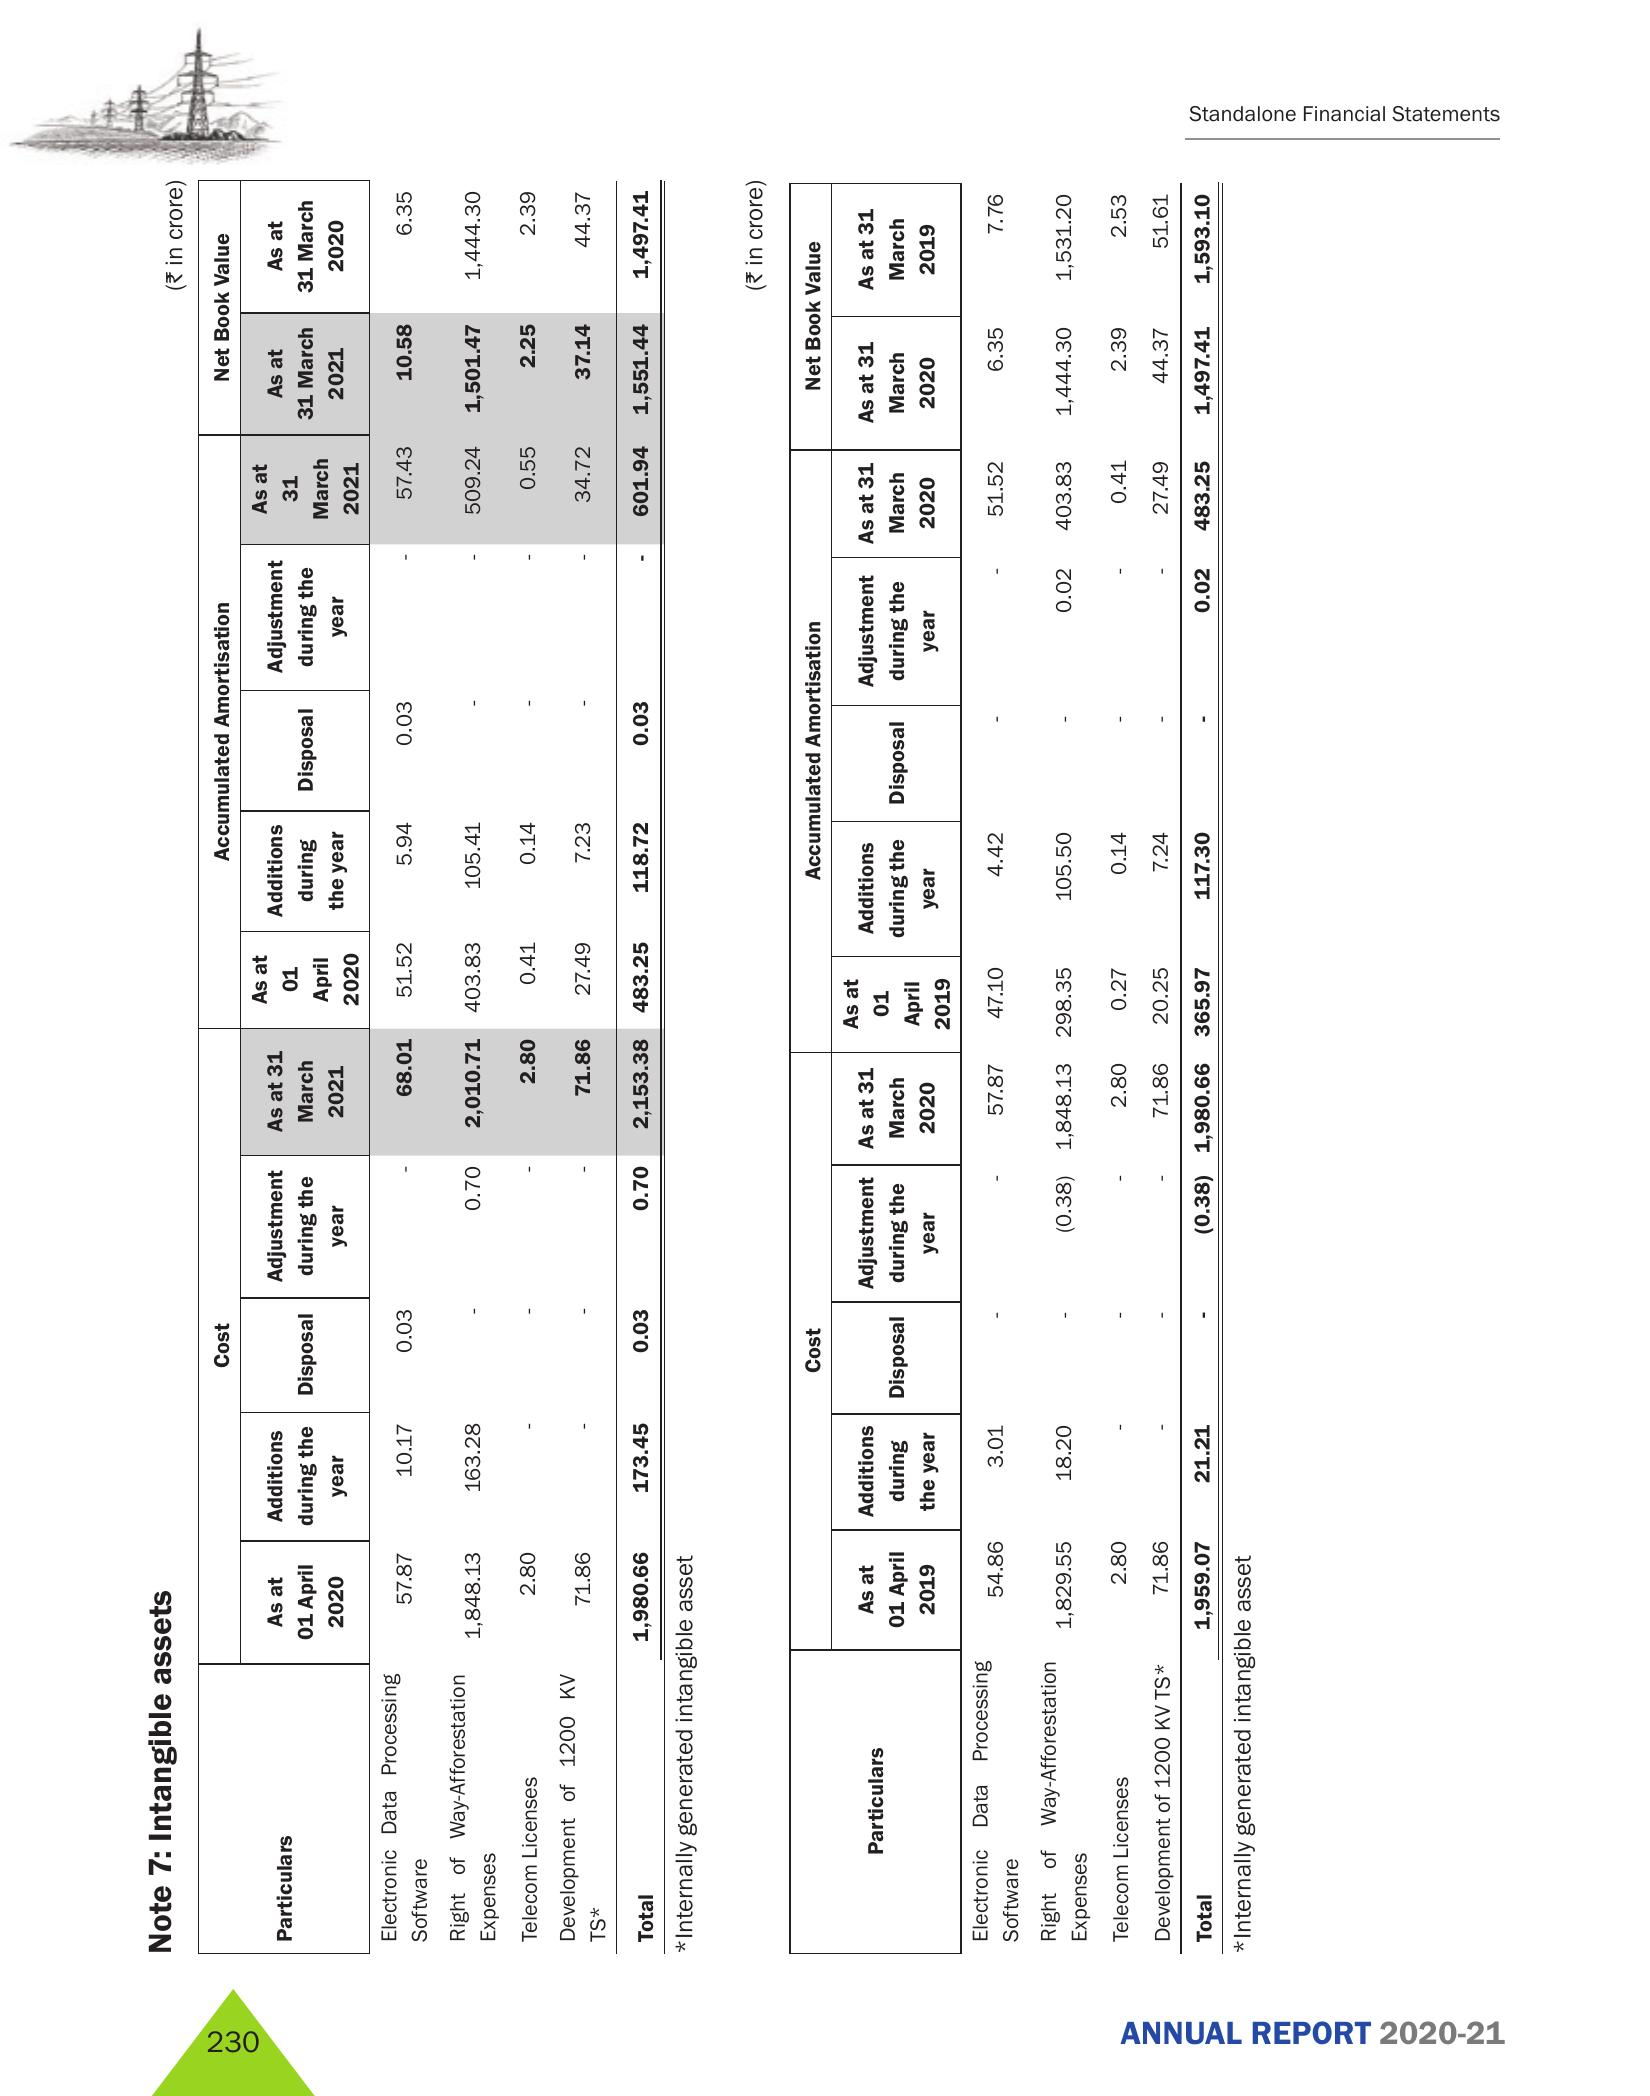Footer: (0, 1956, 1650, 2096)
Header: (0, 0, 1650, 163)
Table: (146, 175, 731, 1962), (750, 163, 1259, 1962)
